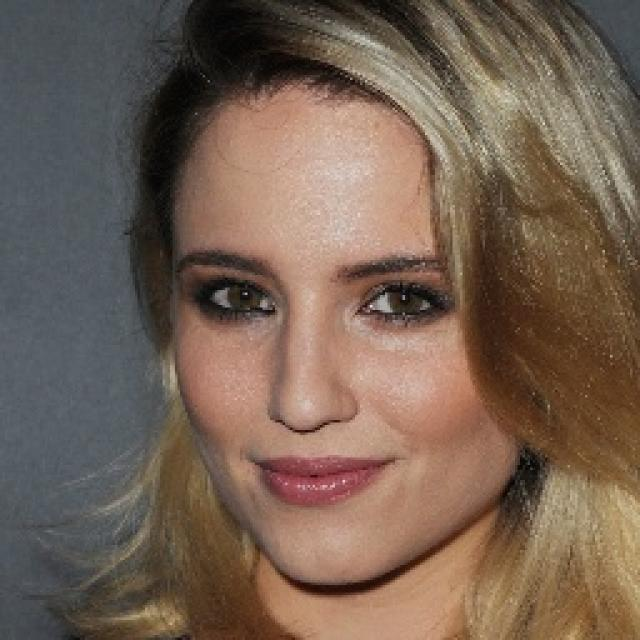eye: (189, 278, 280, 323), (354, 285, 448, 324)
nose: (272, 416, 353, 452)
